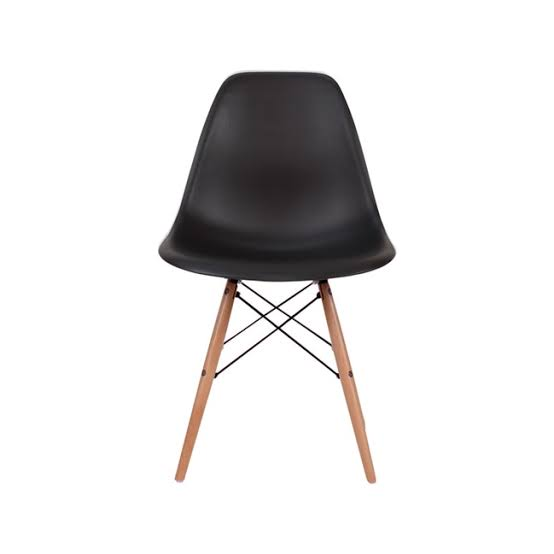chair: (152, 60, 415, 499)
